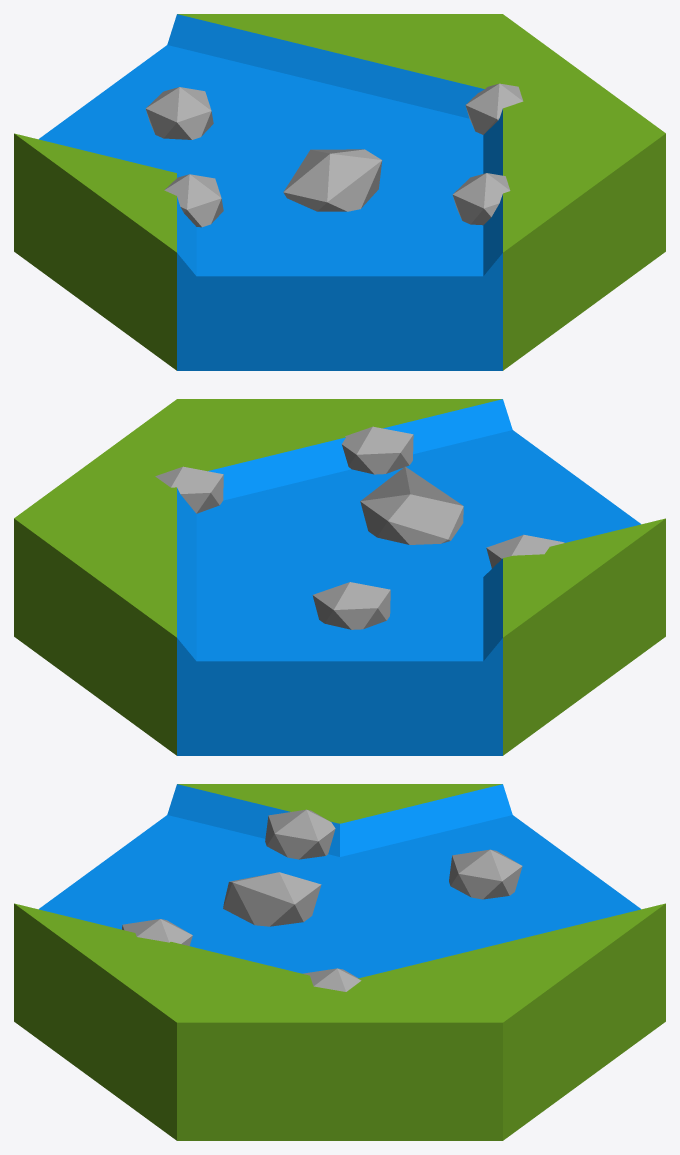
Rendered from Rio_Curva_Hex.fbx.
3 views of the same model, one above another, from view 1: azimuth 30°, elevation 25°; view 2: azimuth 150°, elevation 25°; view 3: azimuth 270°, elevation 25° (orthographic).
Parts seen in each view (by area): view 1: Rio_Curva; view 2: Rio_Curva; view 3: Rio_Curva.
Part boxes in pixels (x1,y1,x2,y2): Rio_Curva: (14, 14, 665, 370); Rio_Curva: (14, 399, 665, 755); Rio_Curva: (14, 784, 665, 1140).
Size of the model in its own units: 86.6 by 22.61 by 100.
Materials: 1 (1 with a texture image).
